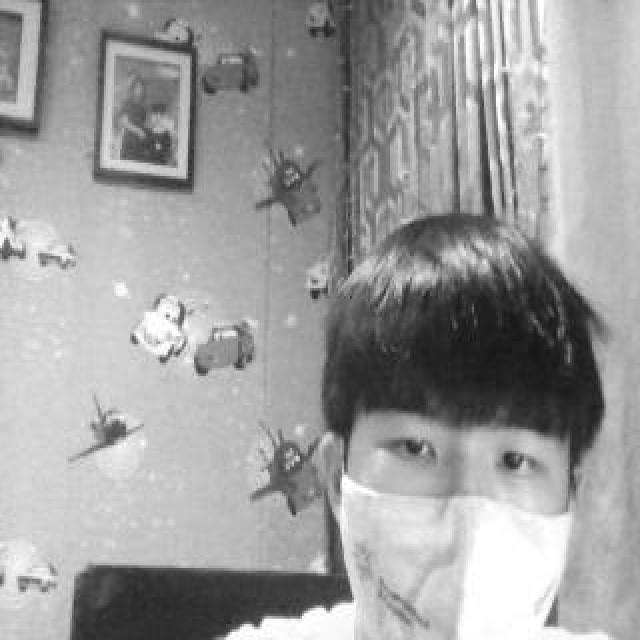Focused: (359, 359, 560, 640)
